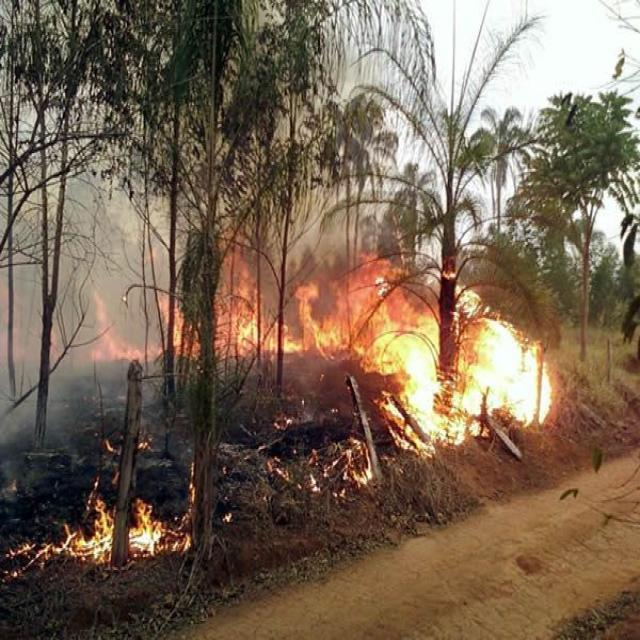Fire: (92, 261, 550, 436), (28, 502, 192, 572), (7, 544, 20, 562), (4, 566, 22, 578), (137, 442, 147, 456), (103, 440, 113, 452), (189, 463, 198, 476), (32, 539, 37, 555)
Smoke: (12, 130, 346, 410)
